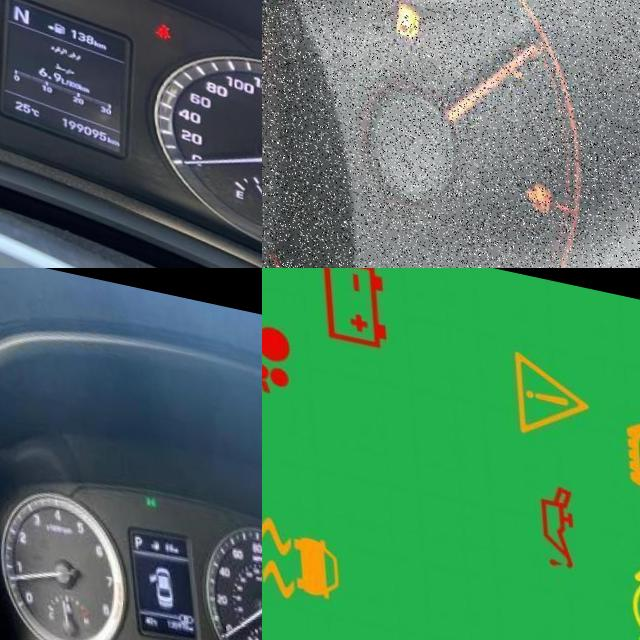Seat Belt: (150, 0, 167, 22)
